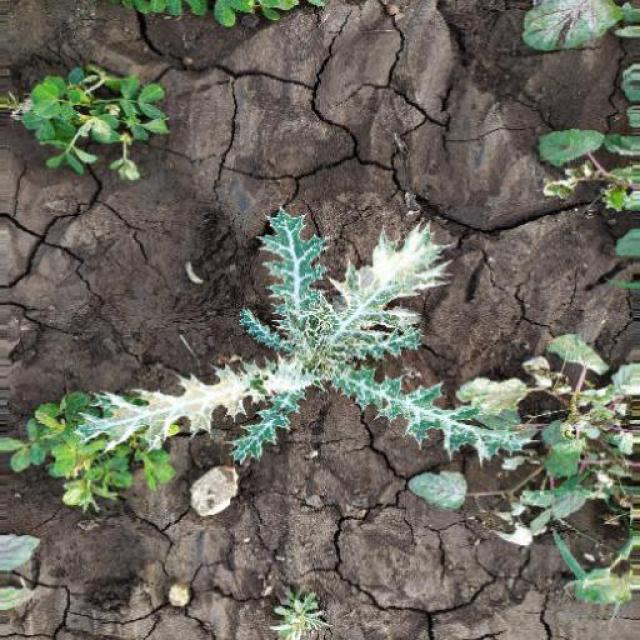weed: (88, 204, 534, 500), (11, 48, 181, 200)
